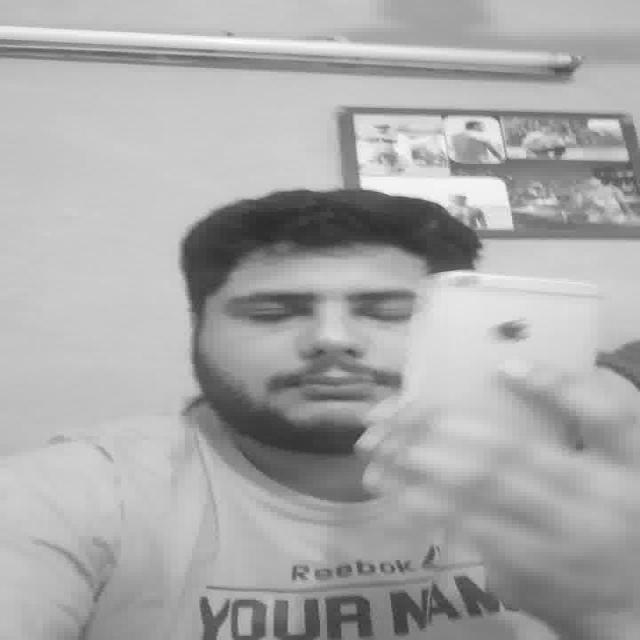fake: (420, 267, 600, 449)
real: (193, 247, 424, 465), (223, 285, 414, 328)
